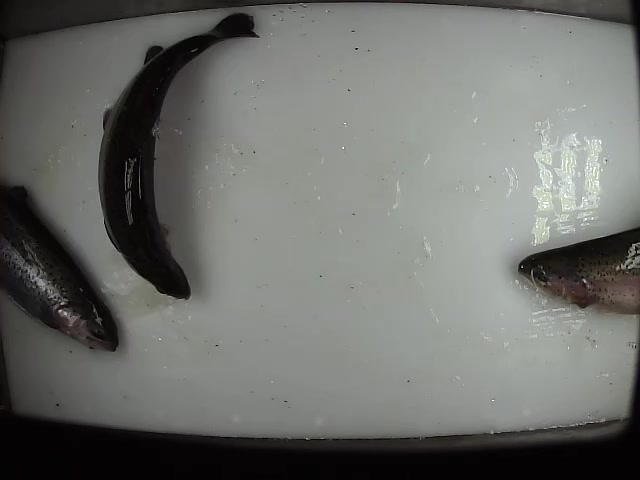fish: (95, 12, 260, 301), (1, 178, 120, 355), (515, 226, 640, 320)
